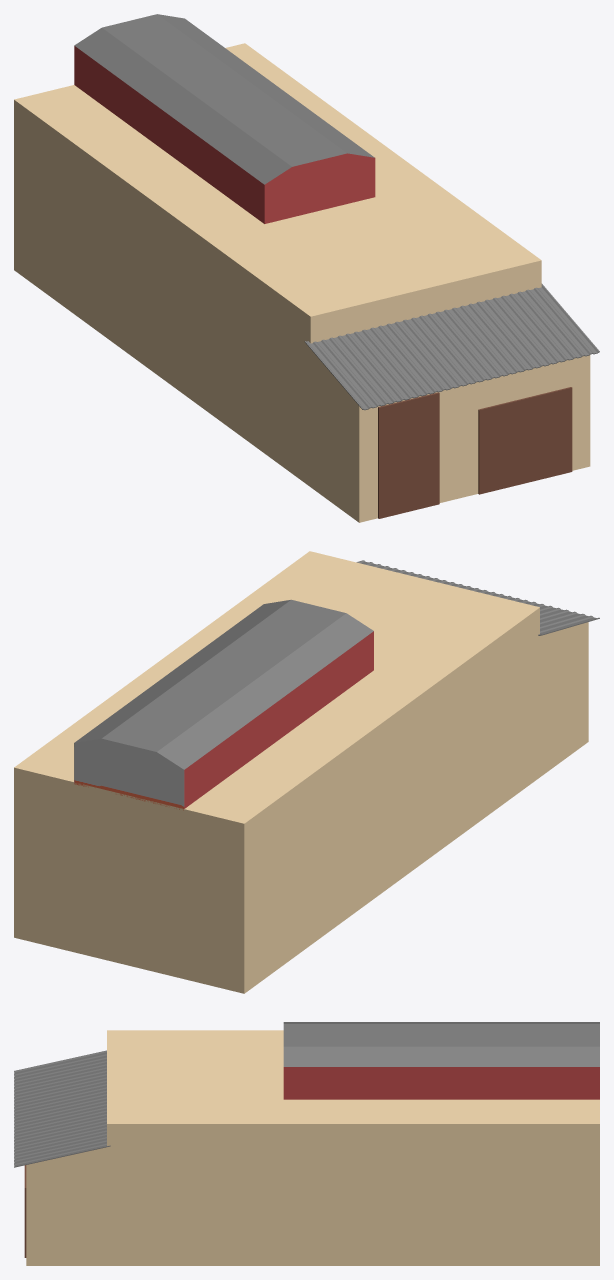
File: Factory (building 2).fbx
The picture shows the model from 3 angles, top to bottom: view 1: azimuth 30°, elevation 25°; view 2: azimuth 150°, elevation 25°; view 3: azimuth 270°, elevation 25°; orthographic projection. The views are drawn at different scales.
Parts seen in each view (by area): view 1: Factory (building 2); view 2: Factory (building 2); view 3: Factory (building 2).
Boxes of the visible parts, x1=… form: Factory (building 2): x1=14, y1=14, x2=599, y2=522; Factory (building 2): x1=14, y1=551, x2=599, y2=993; Factory (building 2): x1=14, y1=1022, x2=599, y2=1265.
Bounding box in the file's own units: 3153 × 2808 × 8120.
